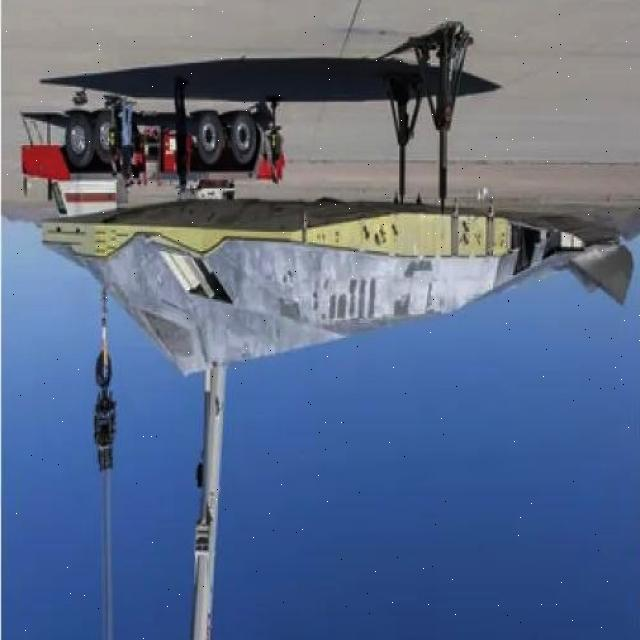F117: (1, 0, 638, 380)
